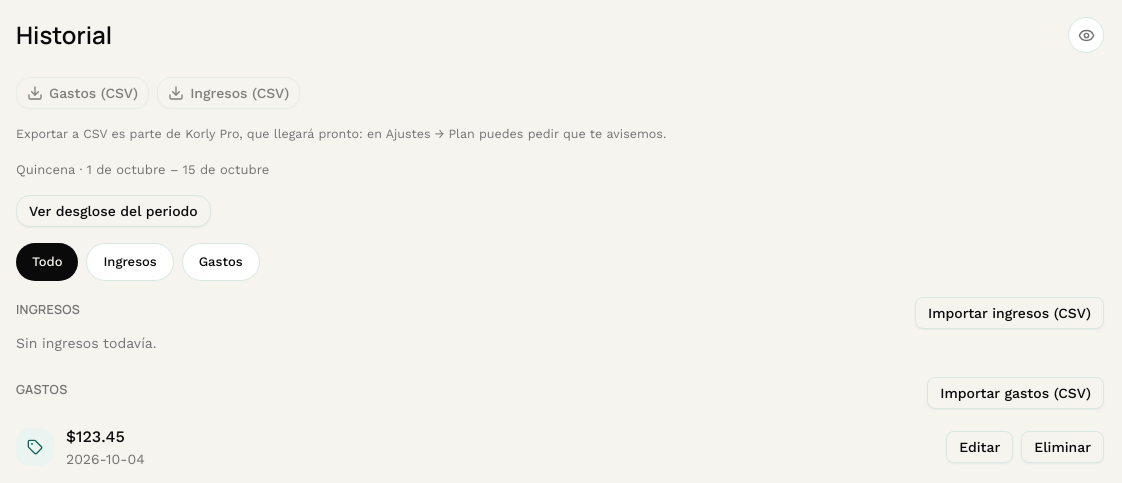
Test: Historial — el periodo activo › el ojito enmascara los montos del historial
What coordinates should you click on to do the following:
click the button named "Ocultar montos"
I would click on:
 (1086, 35)
Its box is [1068,17,1104,53].
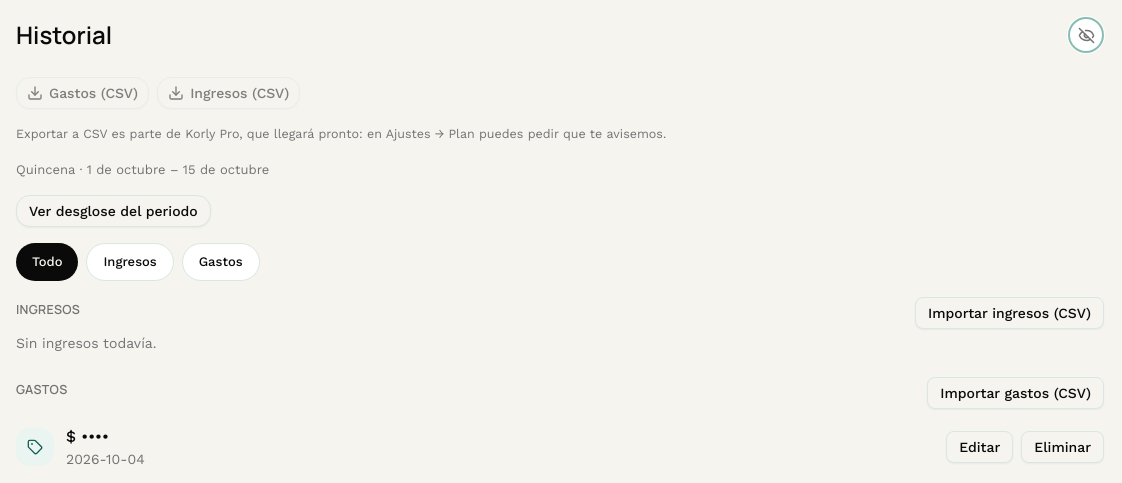
Check: the text "$ ••••" is shown, box [66,427,109,446]
